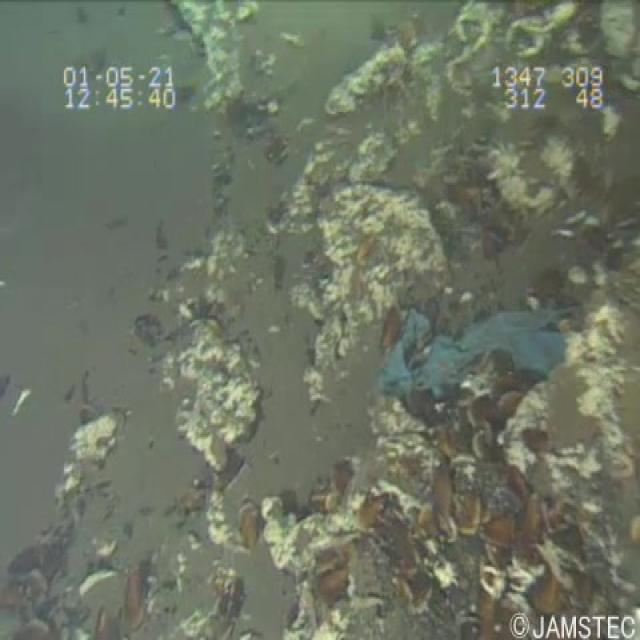plastic: (359, 292, 593, 411)
